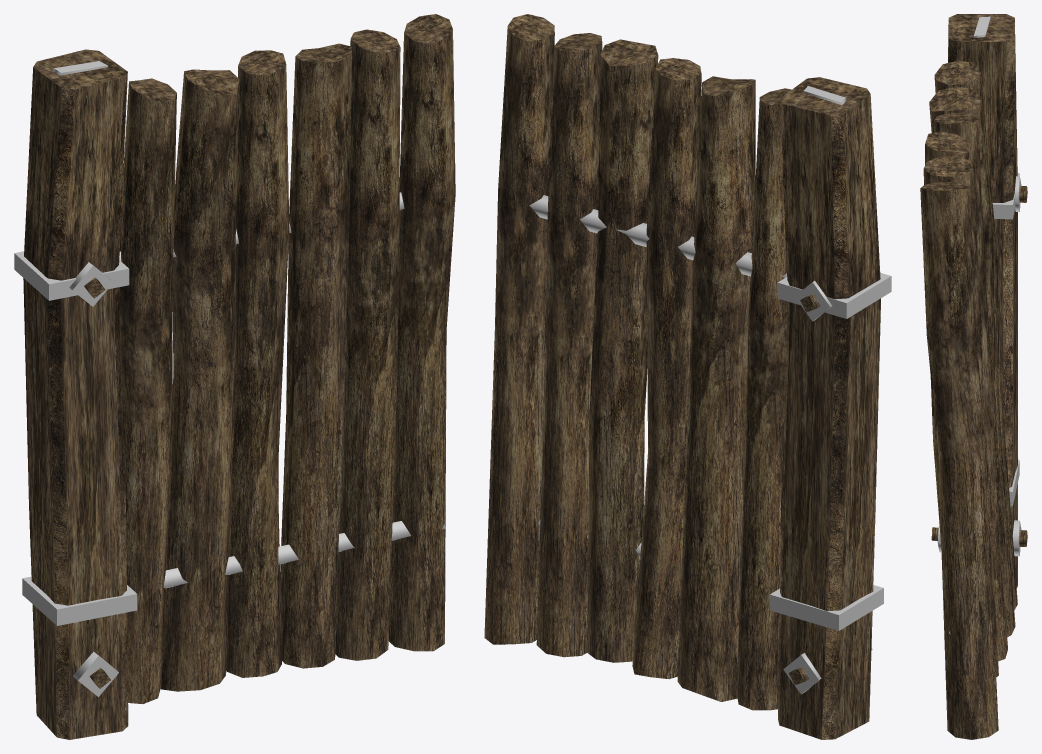
Rendered from Porta01.FBX.
3 views of the same model, side by side, from view 1: azimuth 30°, elevation 25°; view 2: azimuth 150°, elevation 25°; view 3: azimuth 270°, elevation 25° (orthographic). The views are drawn at different scales.
Visible parts, largest first — view 1: PortaLegno001, StipitiPOrtaLegno001; view 2: PortaLegno001, StipitiPOrtaLegno001; view 3: PortaLegno001, StipitiPOrtaLegno001.
Part boxes in pixels (left/top/right/bottom): PortaLegno001: left=118, top=14, right=455, bottom=703; StipitiPOrtaLegno001: left=14, top=49, right=137, bottom=739; PortaLegno001: left=484, top=14, right=791, bottom=710; StipitiPOrtaLegno001: left=770, top=77, right=891, bottom=739; PortaLegno001: left=920, top=60, right=1017, bottom=739; StipitiPOrtaLegno001: left=931, top=14, right=1027, bottom=588.
Size of the model in its own units: 19.19 by 5.06 by 29.5.
